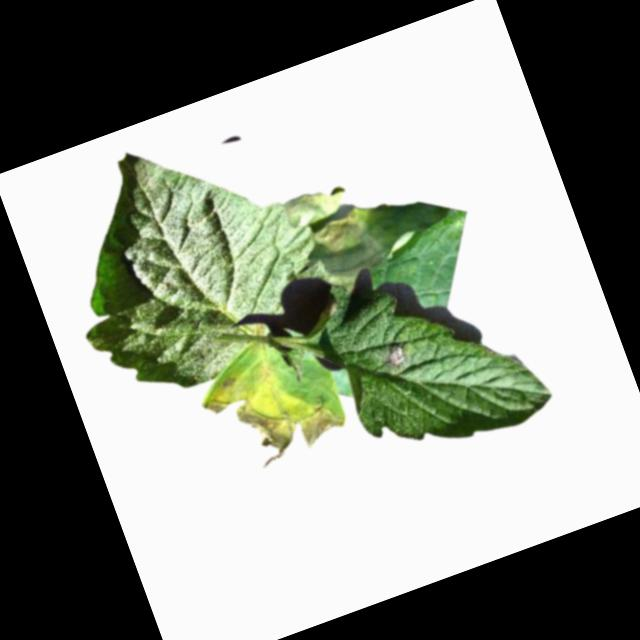Late_blight: (280, 146, 462, 295), (196, 343, 349, 479), (380, 339, 410, 371)
healthy: (30, 102, 346, 415)
